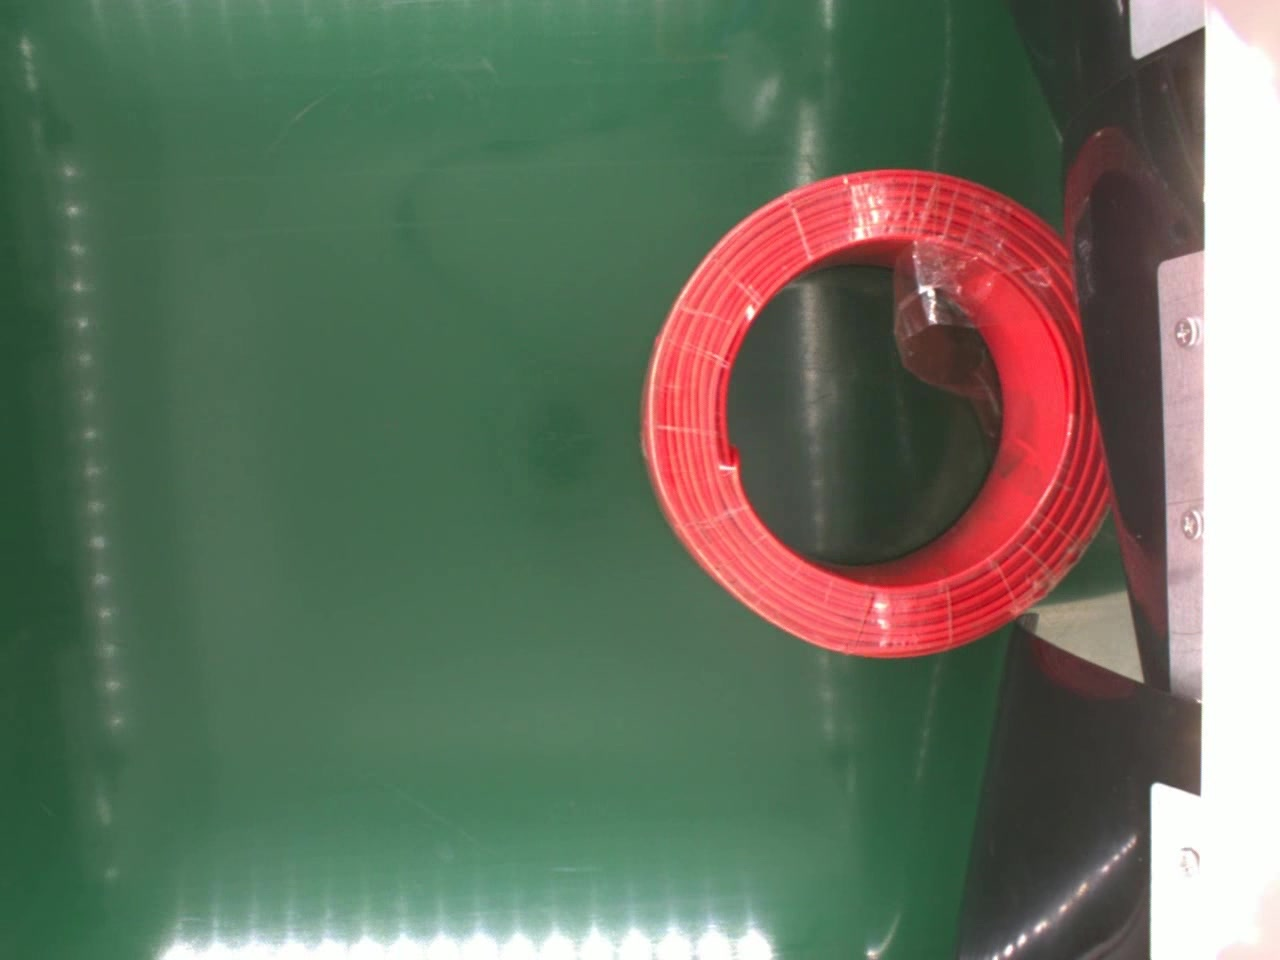red: (641, 167, 1109, 667)
